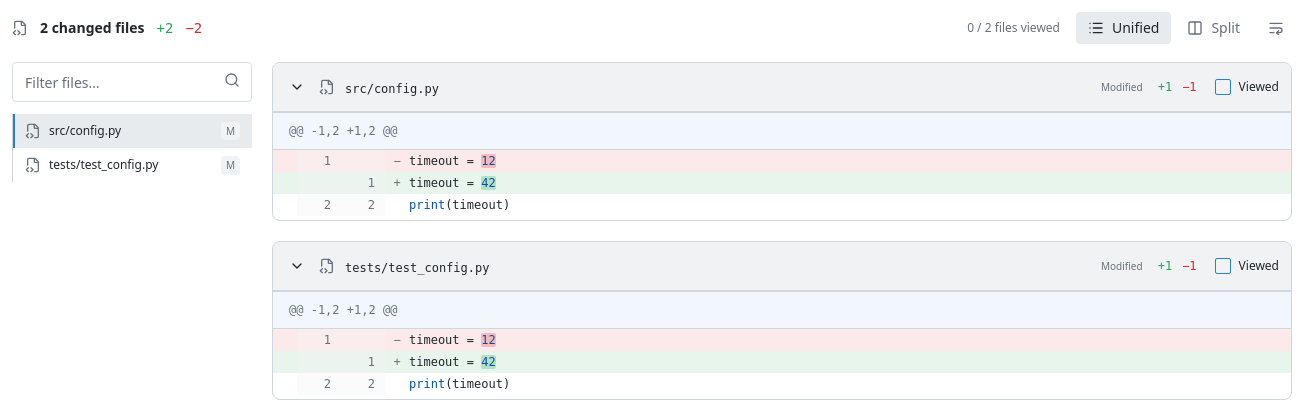
Test: DiffViewer › viewed files collapse, allow manual expansion, and expand when unmarked
The image size is (1304, 417).
Step 1. Click the checkbox named "Mark src/config.py as viewed" → coordinates (1223, 87), box [1215,79,1231,95]
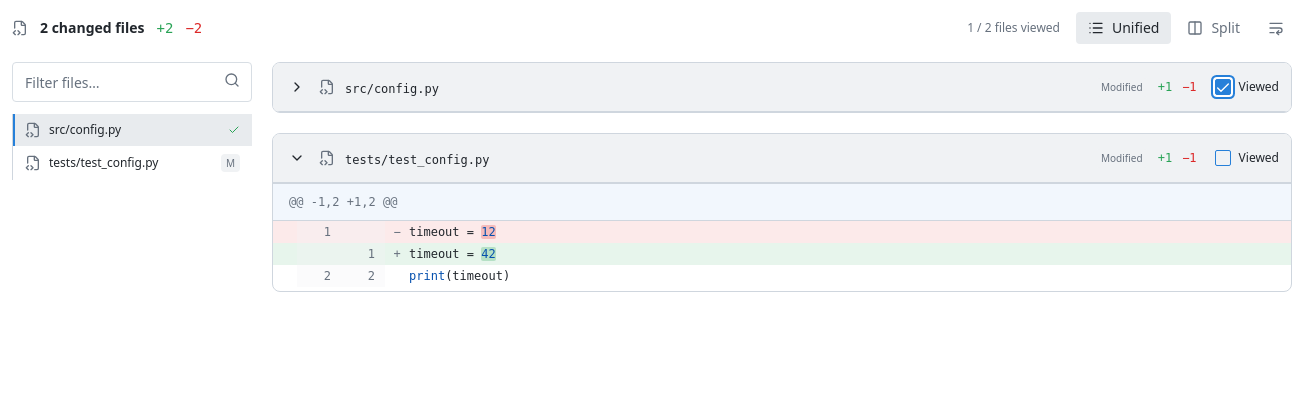
Expected: the button named "Expand src/config.py" is shown
Step 2. Click the button named "Expand src/config.py" → coordinates (297, 87), box [285,75,309,99]
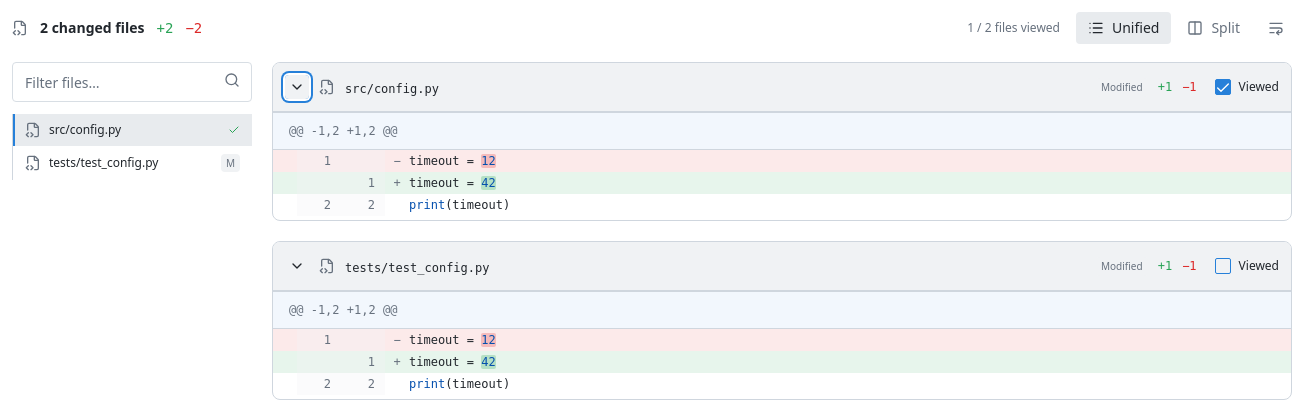
Expected: the button named "Collapse src/config.py" is shown, [285,75,309,99]
Step 3. Click the checkbox named "Mark src/config.py as viewed" → coordinates (1223, 87), box [1215,79,1231,95]
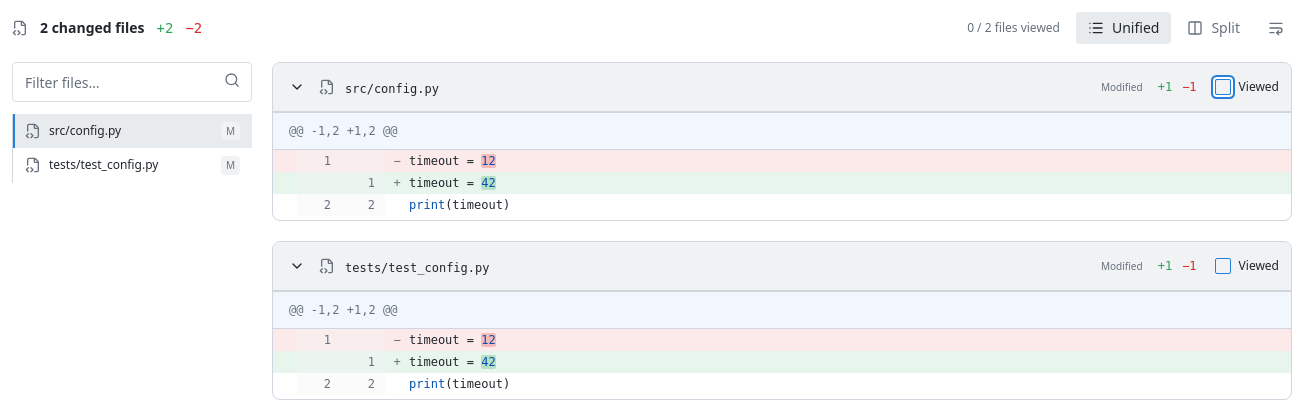
Expected: the button named "Collapse src/config.py" is shown, [285,75,309,99]
Step 4. Click the checkbox named "Mark src/config.py as viewed" → coordinates (1223, 87), box [1215,79,1231,95]
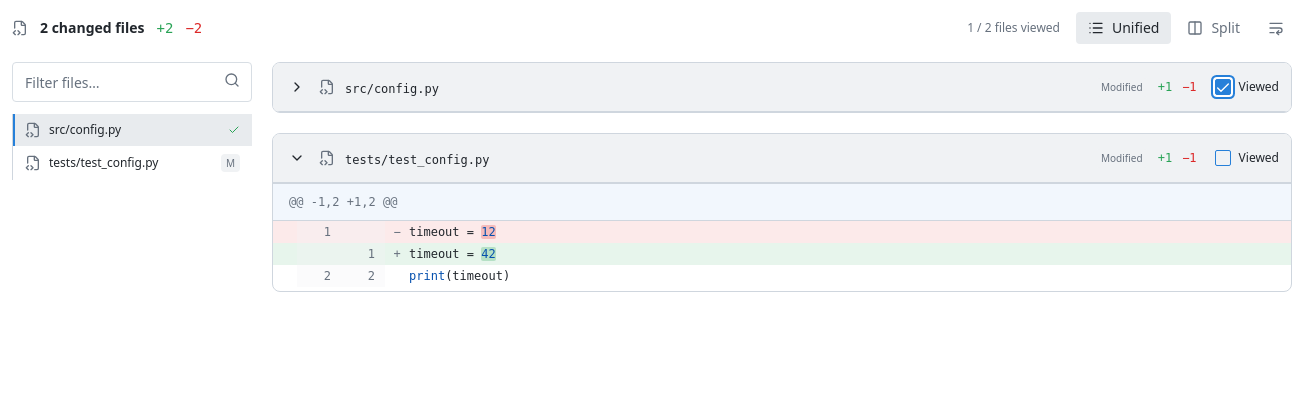
Expected: the button named "Expand src/config.py" is shown, [285,75,309,99]
